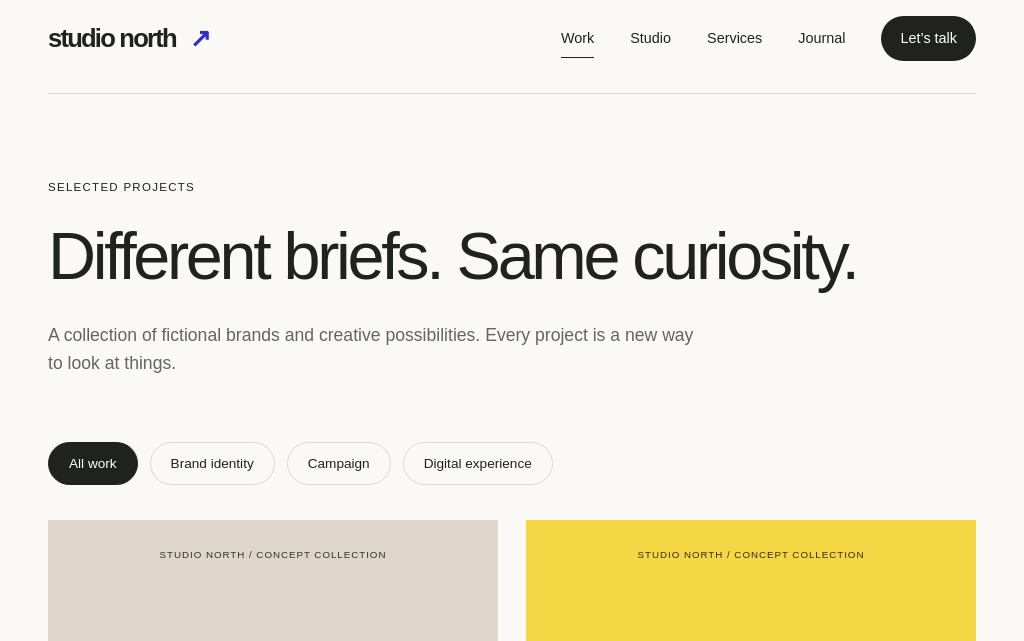
Test: filters work and opens a project
Click the button "Campaign".
click(339, 464)  # box [287, 442, 391, 486]
(page scrolled)
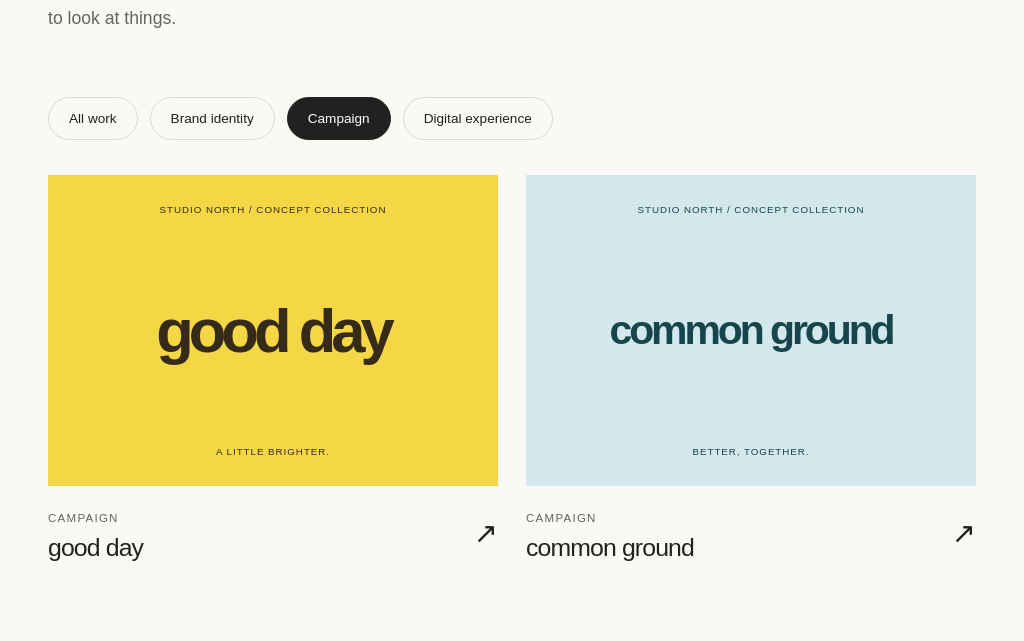
Expected: the number of links named "View good day project" is 2
Click the link named "View good day project".
click(273, 368)  # box [48, 176, 498, 561]
(page scrolled)
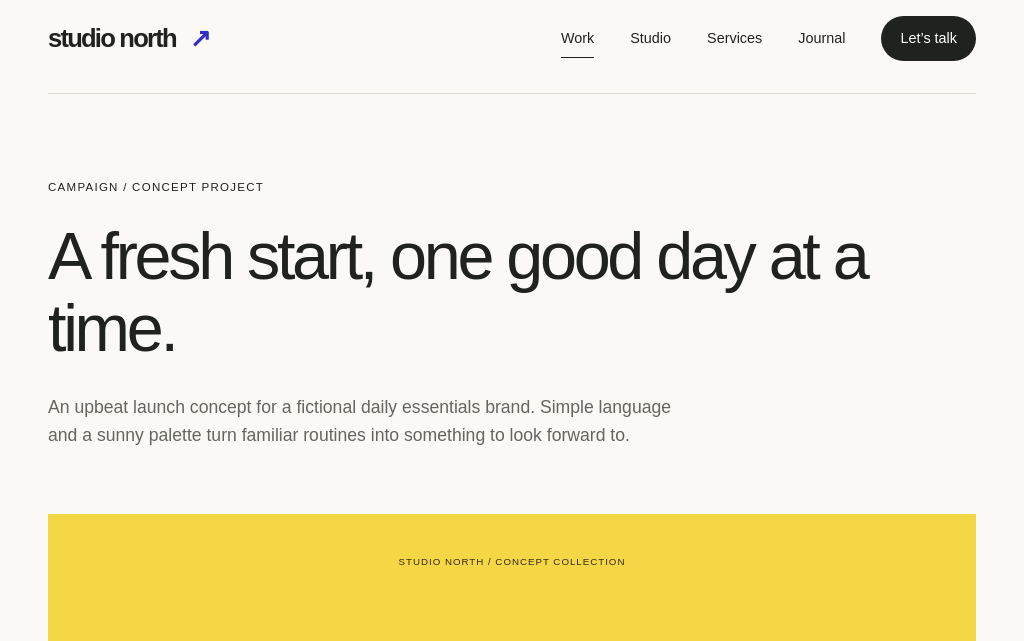
Expected: the heading reads "A fresh start, one good day at a time.", [48, 219, 866, 365]
